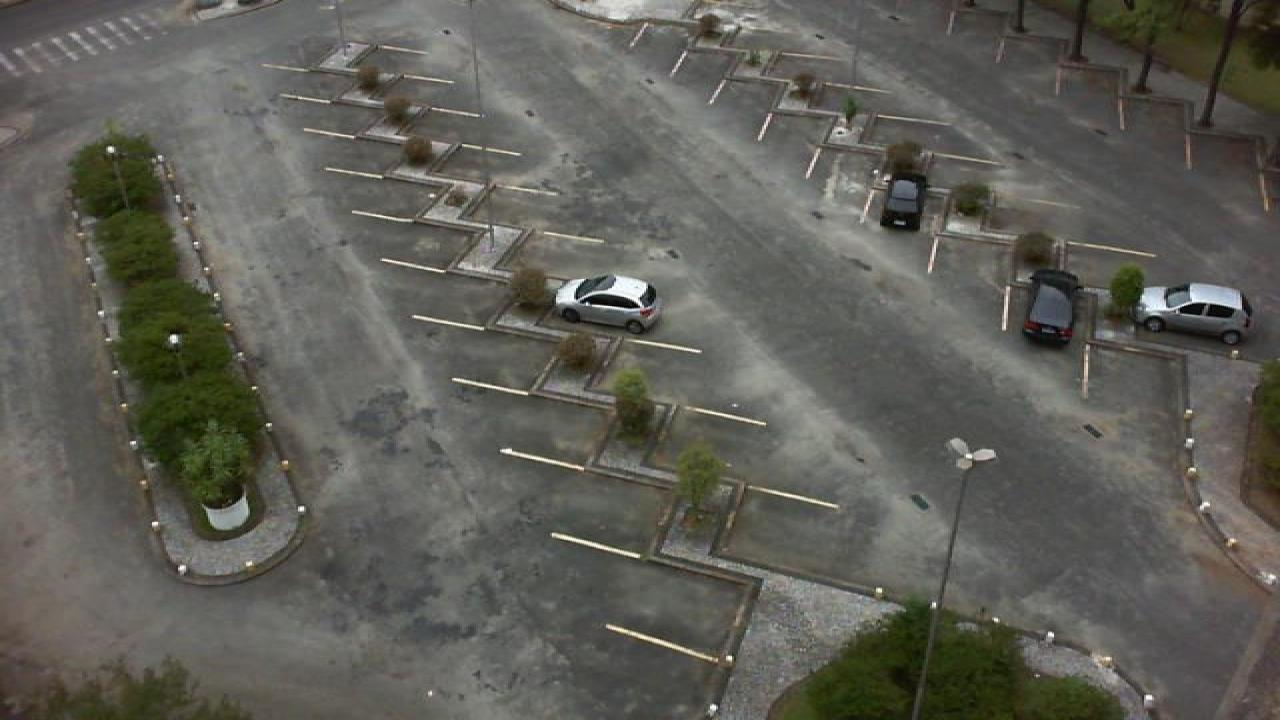Car: (1134, 282, 1256, 346), (554, 272, 660, 333), (1018, 269, 1084, 346), (880, 172, 930, 231)
